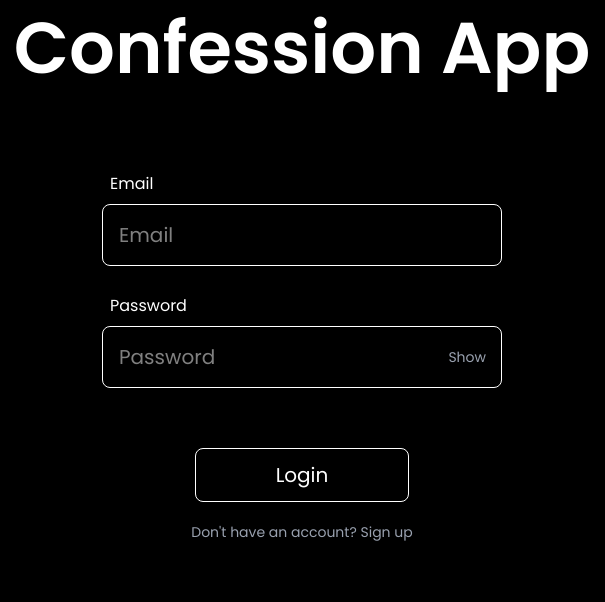
Scenario: Form › shows error for too many requests
In the field with placeholder "Email": (302, 235) 102,204 -> 502,266, type "test@test.com"
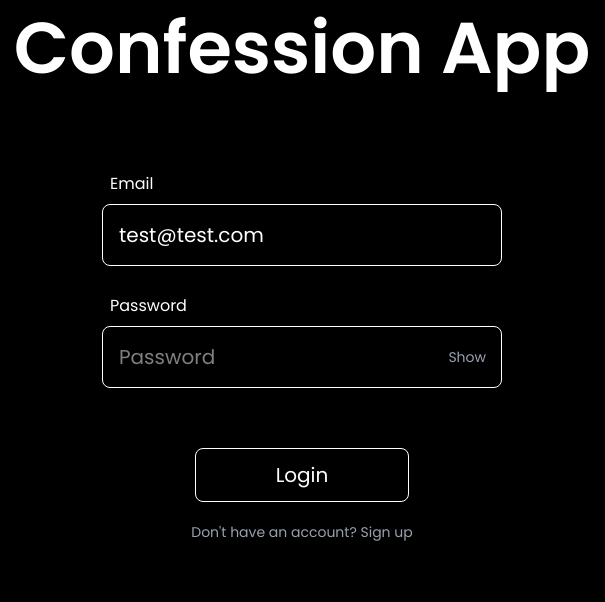
In the password field with placeholder "Password": (302, 357) 102,326 -> 502,388, type "123456"
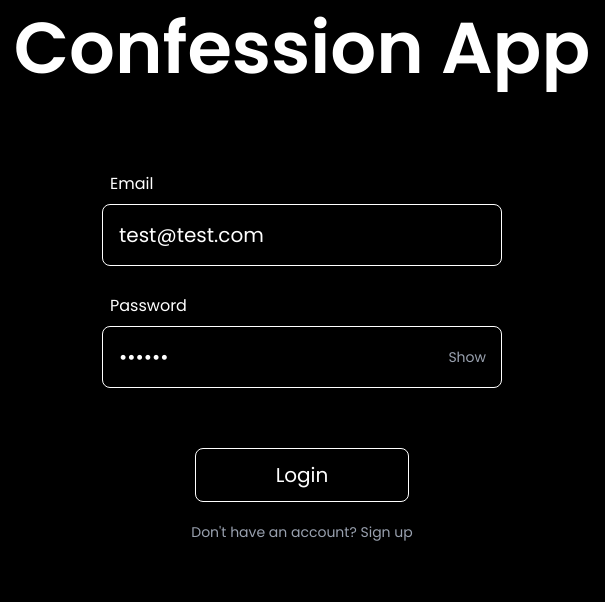
Click the button "Login": click(302, 475) 195,448 -> 409,502
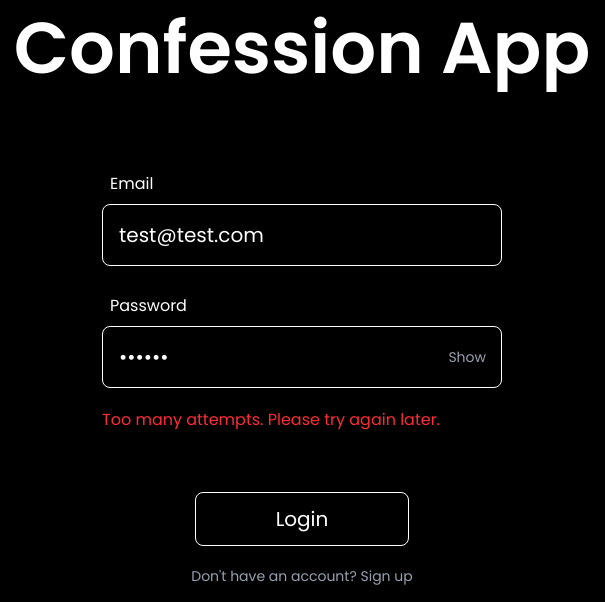
Check: the text "Too many attempts. Please try again later." is shown, box 102,408 -> 440,431
